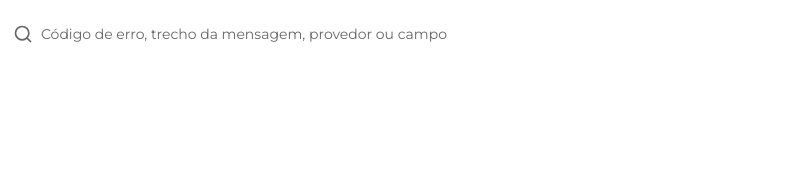
Test: BuscaHeroComPreview › item com URL que não é caminho interno aparece sem link
The width and height of the screenshot is (791, 173).
Type "e01" into the search field at (398, 34), box left=41, top=13, right=755, bottom=55
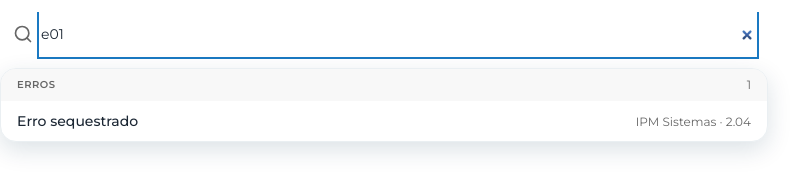
Now the text "Erro sequestrado" is shown, box left=17, top=112, right=138, bottom=130
